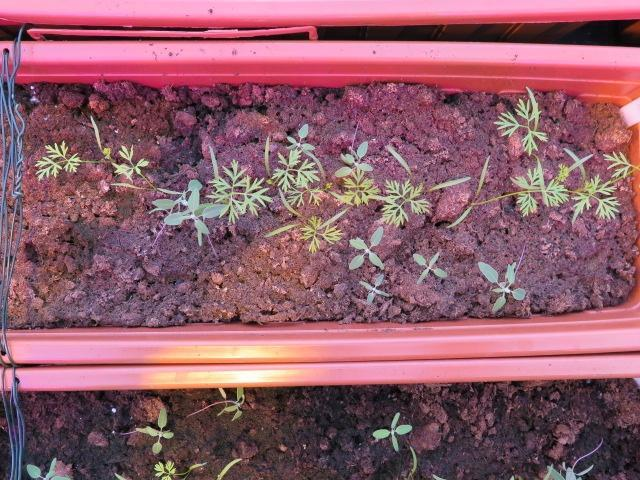weed: (474, 256, 529, 317), (131, 403, 176, 459), (368, 407, 413, 455), (343, 222, 387, 271), (408, 247, 449, 286), (353, 269, 390, 307)
